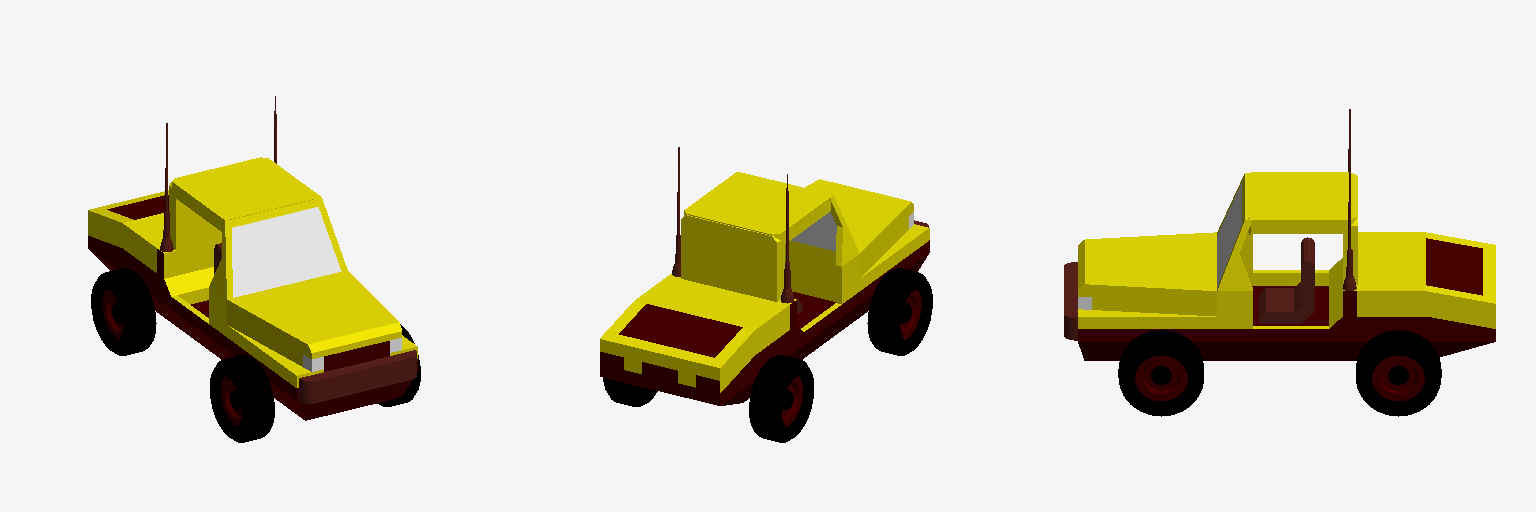
File: car3.obj
The picture shows the model from 3 angles: view 1: azimuth 30°, elevation 25°; view 2: azimuth 150°, elevation 25°; view 3: azimuth 270°, elevation 25°; orthographic projection.
Parts seen in each view (by area): view 1: body_frontTruck, wheel_standard, body_topWindshield, roof_flat, body_suv, body_backStandard, bumper, detail_antenna; view 2: body_backStandard, roof_flat, wheel_standard, body_frontTruck, body_suv, body_topWindshield, detail_antenna; view 3: body_frontTruck, body_backStandard, wheel_standard, body_suv, roof_flat, detail_seat, body_topWindshield, bumper, detail_antenna.
Part boxes in pixels (left/top/right/bottom): body_frontTruck: left=227, top=270, right=417, bottom=420; wheel_standard: left=91, top=268, right=420, bottom=442; body_topWindshield: left=209, top=195, right=347, bottom=298; roof_flat: left=169, top=157, right=317, bottom=250; body_suv: left=157, top=240, right=230, bottom=359; body_backStandard: left=88, top=190, right=168, bottom=320; bumper: left=299, top=350, right=416, bottom=403; detail_antenna: left=160, top=96, right=276, bottom=251; body_backStandard: left=600, top=275, right=789, bottom=405; roof_flat: left=681, top=173, right=830, bottom=301; wheel_standard: left=603, top=268, right=932, bottom=442; body_frontTruck: left=805, top=179, right=929, bottom=325; body_suv: left=670, top=241, right=859, bottom=359; body_topWindshield: left=734, top=172, right=859, bottom=266; detail_antenna: left=672, top=147, right=793, bottom=303; body_frontTruck: left=1078, top=232, right=1216, bottom=360; body_backStandard: left=1357, top=232, right=1495, bottom=357; wheel_standard: left=1118, top=330, right=1441, bottom=416; body_suv: left=1217, top=235, right=1356, bottom=360; roof_flat: left=1245, top=172, right=1357, bottom=284; detail_seat: left=1259, top=237, right=1314, bottom=323; body_topWindshield: left=1217, top=173, right=1252, bottom=290; bumper: left=1064, top=262, right=1077, bottom=340; detail_antenna: left=1343, top=109, right=1356, bottom=290.
Bounding box in the file's own units: 1.43 × 1.91 × 3.1.